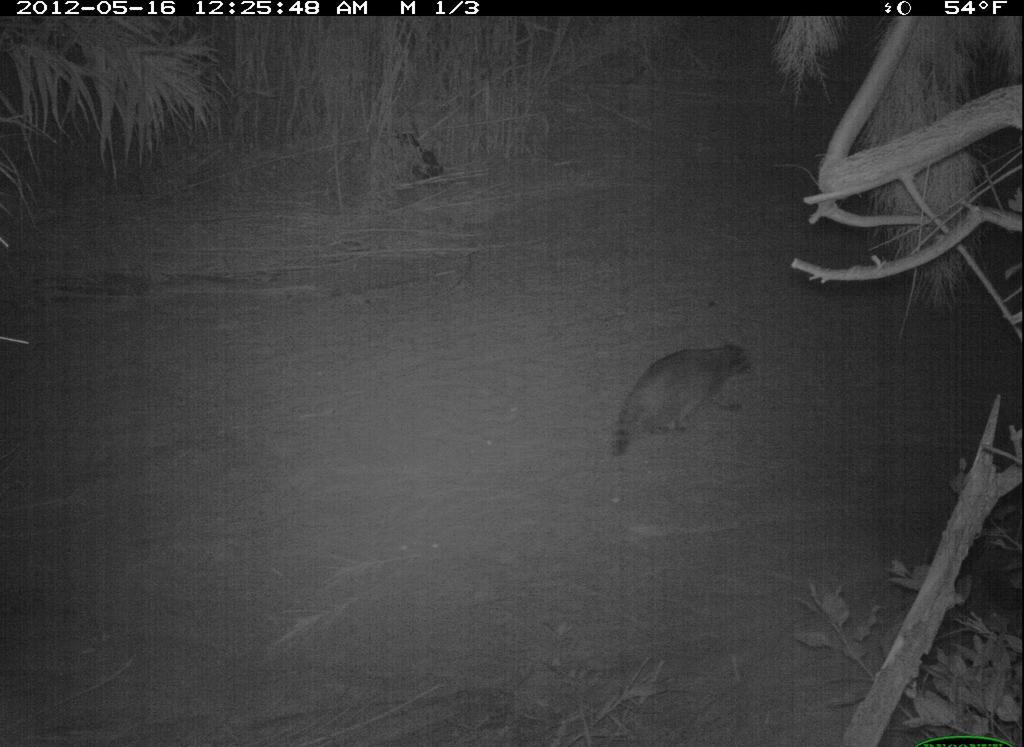raccoon: (606, 337, 763, 463)
